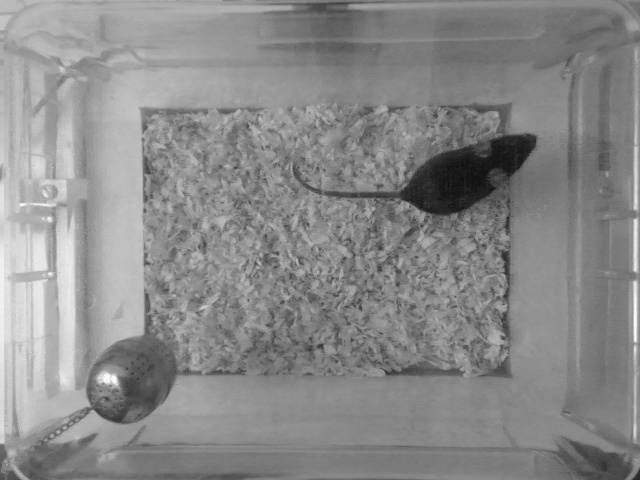mice: (288, 130, 541, 217)
